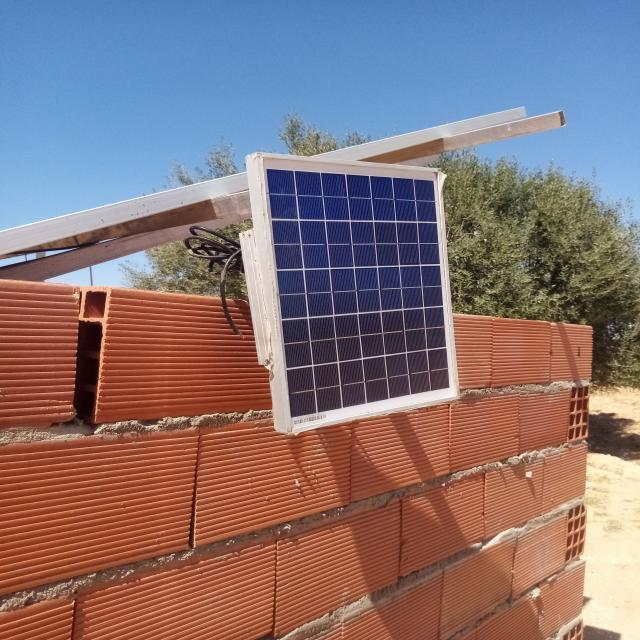Normal Solar Panel: (258, 155, 460, 433)
